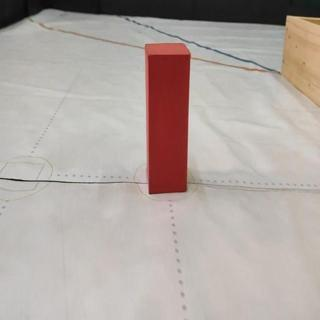redbox: (145, 43, 191, 194)
